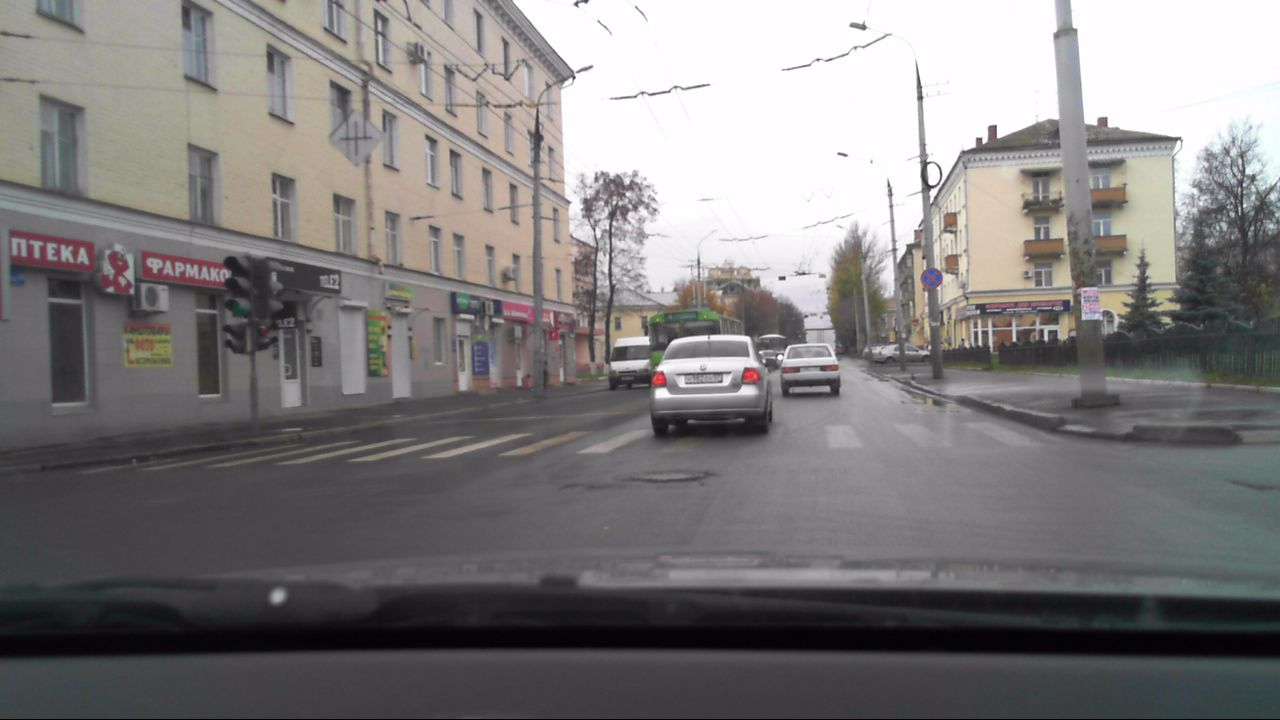No Parking: (916, 267, 943, 291)
